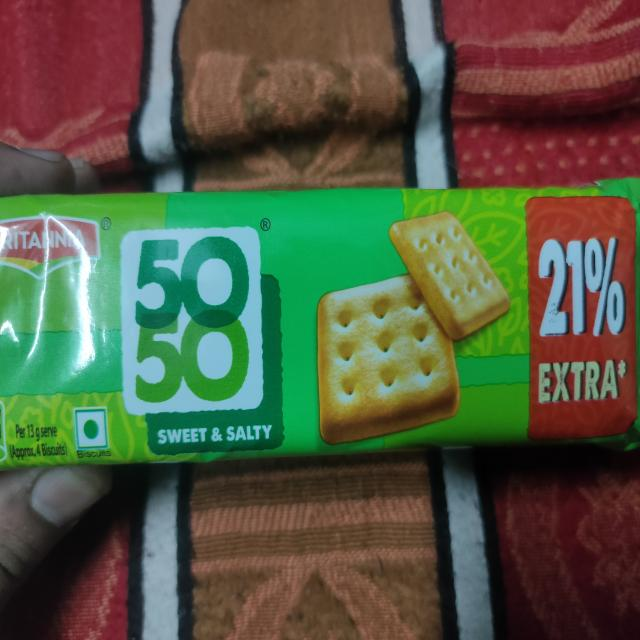biscuit: (0, 190, 640, 456)
